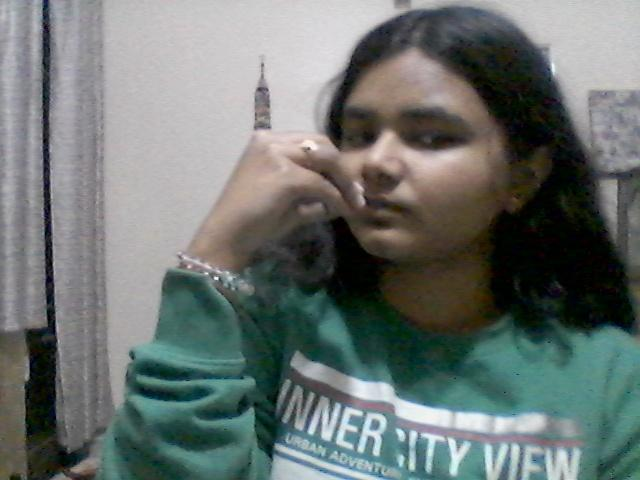eat: (146, 129, 373, 281)
